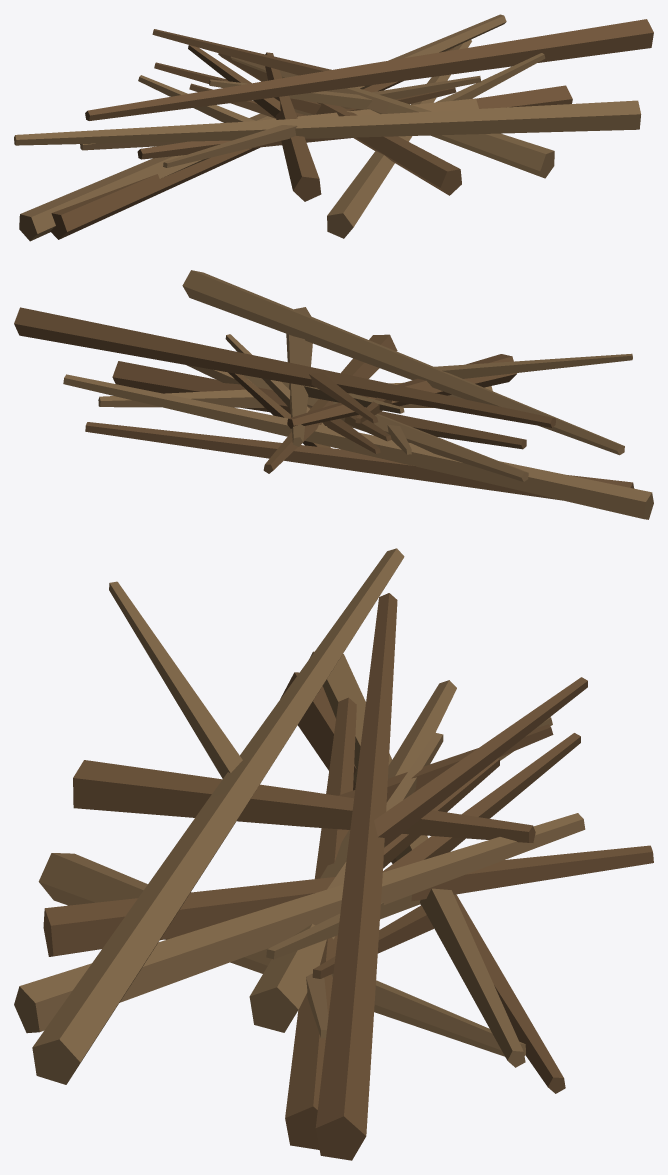
The model's file is branches_pile_idle.glb.
The picture shows the model from 3 angles, top to bottom: view 1: azimuth 30°, elevation 25°; view 2: azimuth 150°, elevation 25°; view 3: azimuth 270°, elevation 25°; orthographic projection. The views are drawn at different scales.
Parts seen in each view (by area): view 1: branches_pile; view 2: branches_pile; view 3: branches_pile.
Part boxes in pixels (left/top/right/bottom): branches_pile: left=14, top=14, right=653, bottom=241; branches_pile: left=14, top=270, right=653, bottom=519; branches_pile: left=14, top=548, right=653, bottom=1160.
Size of the model in its own units: 1.03 by 0.1712 by 0.5217.
